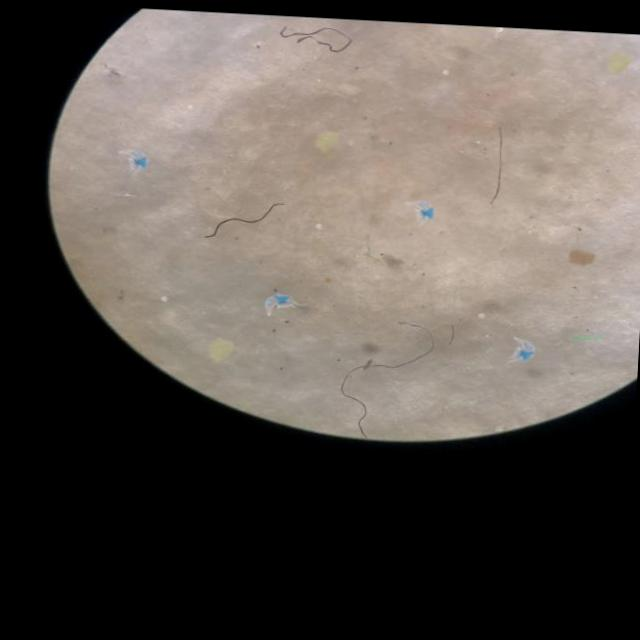fiber: (341, 346, 432, 437), (206, 203, 280, 238), (280, 28, 350, 53), (490, 130, 504, 204)
film: (264, 294, 292, 315), (129, 151, 147, 170), (516, 344, 534, 362), (418, 202, 433, 220)
fragment: (209, 340, 233, 362), (315, 133, 337, 151), (607, 56, 629, 74), (569, 250, 595, 265)
pellet: (441, 70, 449, 75), (478, 313, 484, 319), (187, 105, 193, 110), (162, 297, 167, 302), (316, 225, 320, 229)
